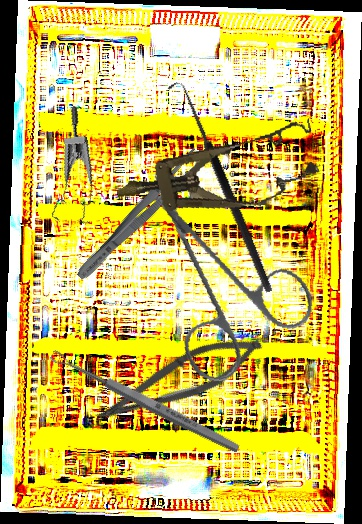Dressing Forceps: (71, 145, 208, 285)
Hook Surgical: (165, 78, 276, 298)
Iris Scissors: (108, 171, 333, 398)
Micro Scissor: (88, 318, 271, 444)
Speculum: (109, 115, 324, 233), (22, 104, 112, 234)
Surgical Spoon: (48, 347, 242, 456)
